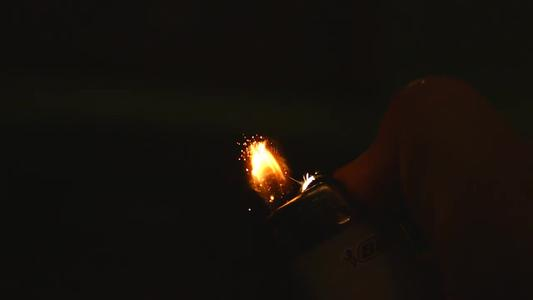fire: (242, 129, 295, 198)
